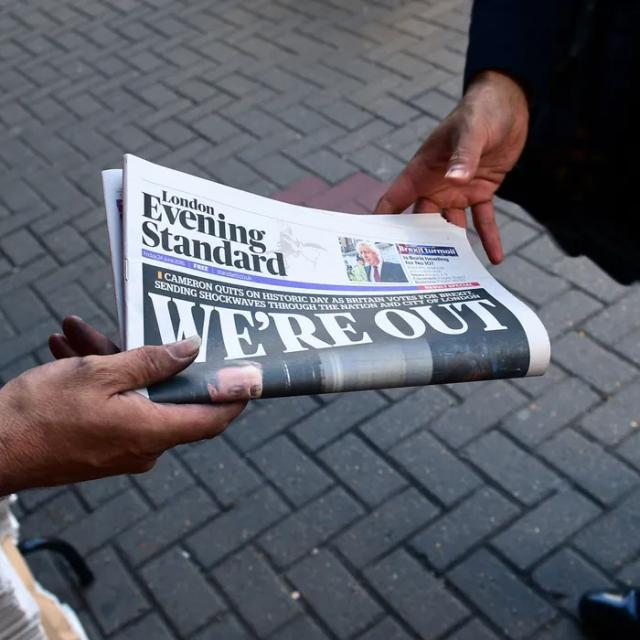newspaper: (101, 162, 554, 400)
